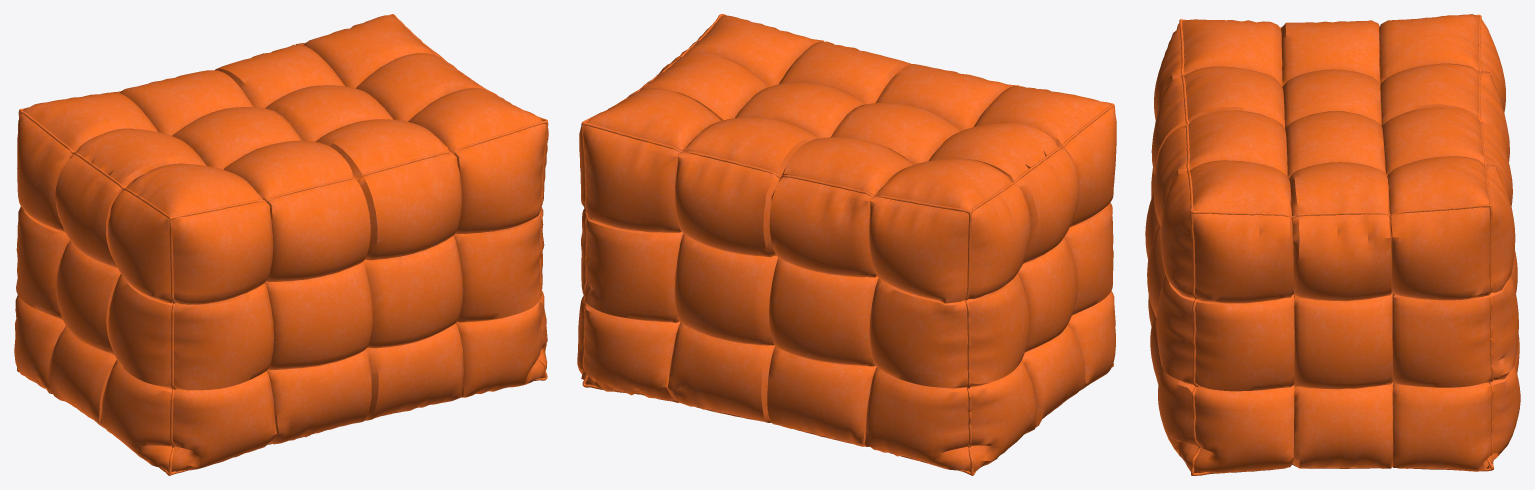
Rendered from obj_ottoman_082850.glb.
3 renders of one model, left to right at view 1: azimuth 30°, elevation 25°; view 2: azimuth 150°, elevation 25°; view 3: azimuth 270°, elevation 25°, orthographic. The views are drawn at different scales.
Visible parts, largest first — view 1: obj_ottoman_082850; view 2: obj_ottoman_082850; view 3: obj_ottoman_082850.
Part boxes in pixels (box(x1,y1,x2,y2)): obj_ottoman_082850: box(14, 14, 548, 475); obj_ottoman_082850: box(577, 14, 1116, 475); obj_ottoman_082850: box(1145, 14, 1520, 475).
Bounding box in the file's own units: 0.7362 × 0.45 × 0.5436.
Materials: 1 (1 with a texture image).
